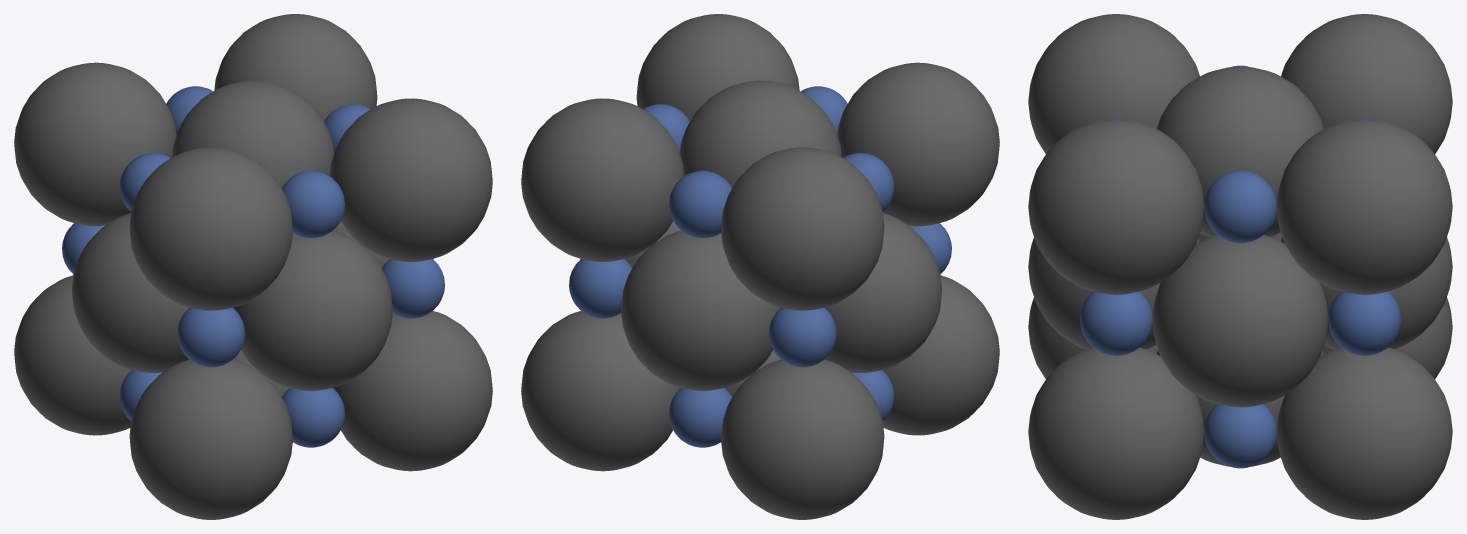
Rendered from kfz_OL_ppt.glb.
The picture shows the model from 3 angles, left to right: view 1: azimuth 30°, elevation 25°; view 2: azimuth 150°, elevation 25°; view 3: azimuth 270°, elevation 25°; orthographic projection. The views are drawn at different scales.
Parts seen in each view (by area): view 1: Sphere.013, Sphere.016; view 2: Sphere.013, Sphere.016; view 3: Sphere.013, Sphere.016.
Boxes of the visible parts, x1=… form: Sphere.013: x1=14, y1=14, x2=492, y2=519; Sphere.016: x1=62, y1=86, x2=444, y2=447; Sphere.013: x1=521, y1=14, x2=999, y2=519; Sphere.016: x1=569, y1=86, x2=951, y2=447; Sphere.013: x1=1028, y1=14, x2=1452, y2=519; Sphere.016: x1=1080, y1=65, x2=1400, y2=468.
Size of the model in its own units: 4.82 by 4.82 by 4.82.
